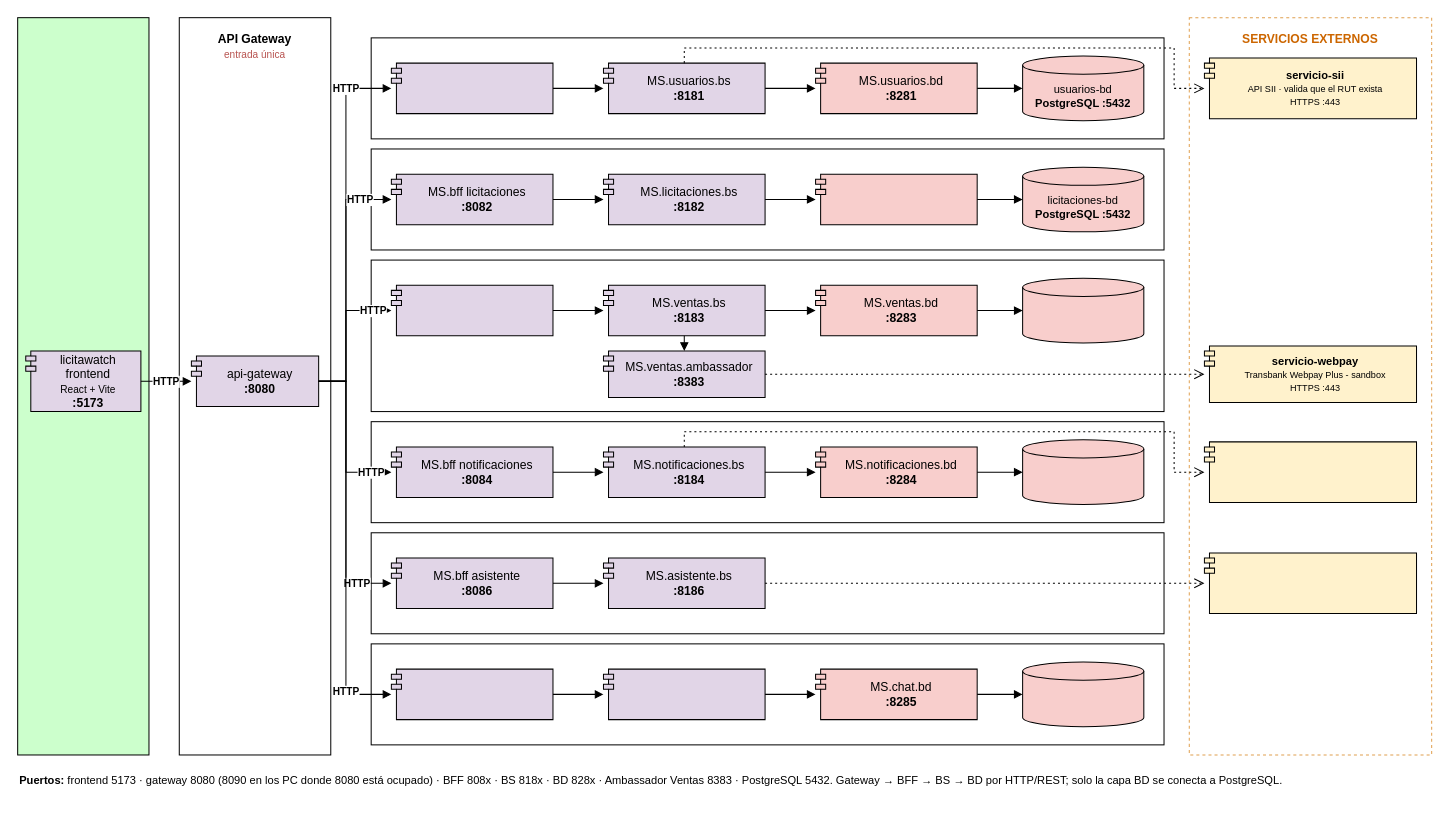
Some shapes in this 1449 by 813 pixel diagram are drawn without their labels. The centre of each missing label's shape, as x and y in pixels:
chat-bd PostgreSQL :5432: point (1083, 694)
MS.bff chat :8085: point (471, 694)
MS.bff usuarios :8081: point (471, 88)
MS.bff ventas :8083: point (471, 310)
MS.chat.bs :8185: point (683, 694)
MS.licitaciones.bd :8282: point (896, 199)
notificaciones-bd PostgreSQL :5432: point (1083, 471)
servicio-gmail-smtp envío de correos smtp.gmail.com :587: point (1310, 471)
servicio-groq modelo de lenguaje (LLM) HTTPS :443: point (1310, 583)
ventas-bd PostgreSQL :5432: point (1083, 310)
